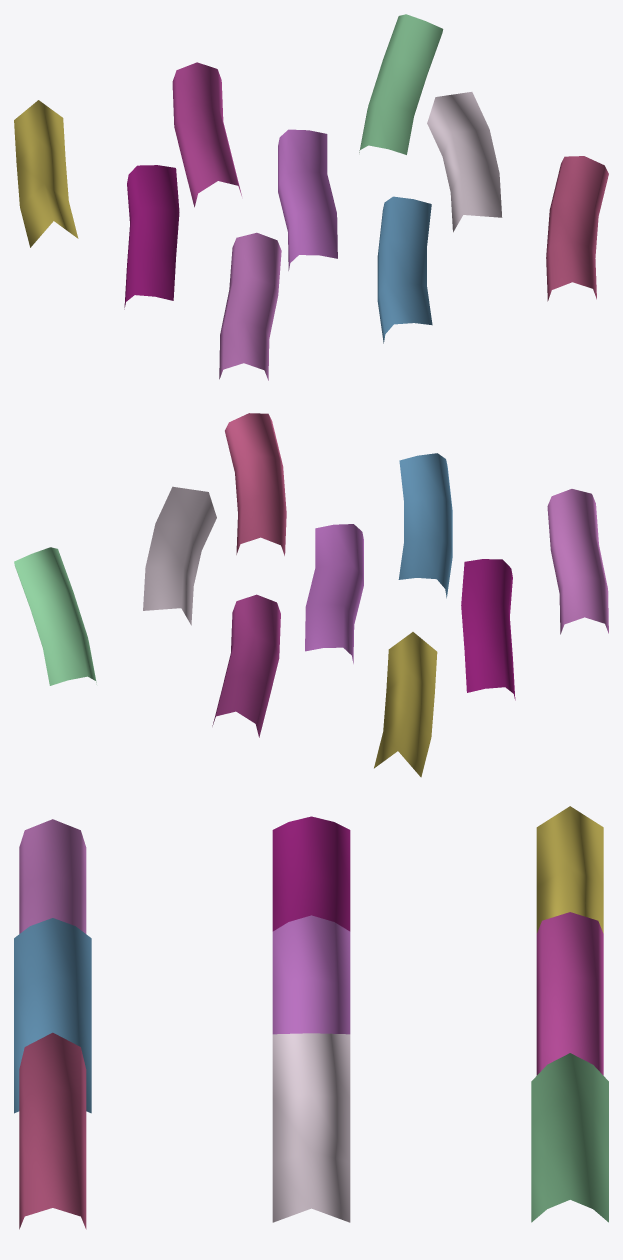
Rendered from phong_mats_2_PolyLineTest_2023-06-04-21-23-00.gltf.
3 renders of one model, top to bottom at view 1: azimuth 30°, elevation 25°; view 2: azimuth 150°, elevation 25°; view 3: azimuth 270°, elevation 25°, orthographic. The views are drawn at different scales.
Bounding box in the file's own units: 523 × 164 × 460.
